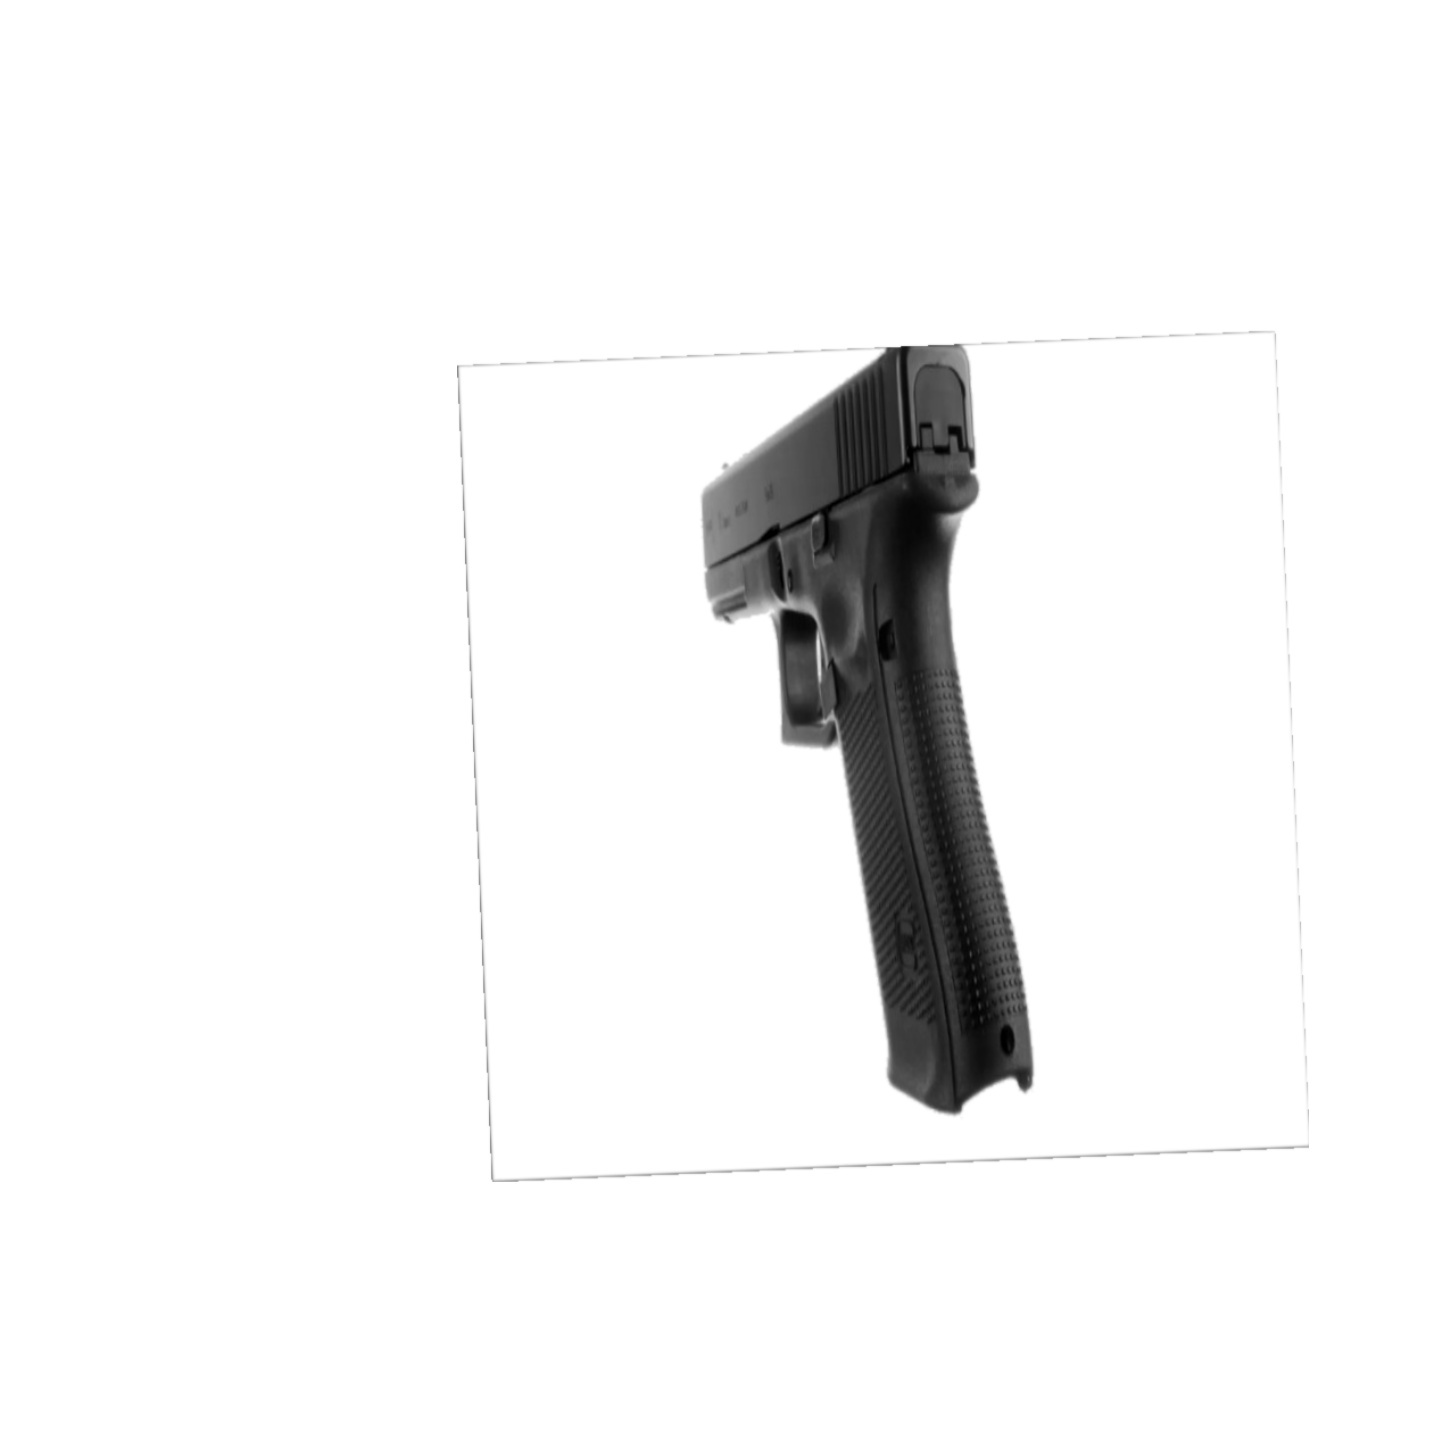gun: (690, 327, 1046, 1125)
